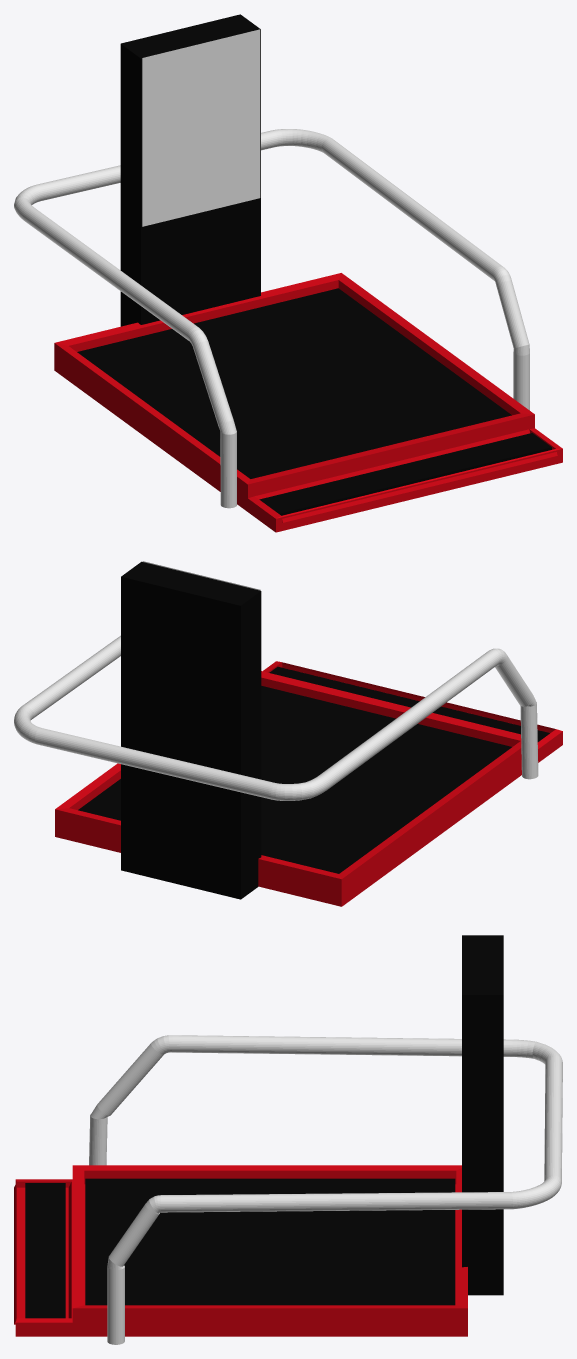
Rendered from teleportmachine.fbx.
3 renders of one model, top to bottom at view 1: azimuth 30°, elevation 25°; view 2: azimuth 150°, elevation 25°; view 3: azimuth 270°, elevation 25°, orthographic. The views are drawn at different scales.
Parts seen in each view (by area): view 1: Cube, Bottom, TV, pillar, Cylinder.001, Cube.001; view 2: pillar, Cube, Bottom, Cylinder.001, Cube.001; view 3: Cube, Bottom, Cylinder.001, pillar, Cube.001.
Part boxes in pixels (x1=…): Cube: x1=77, y1=288, x2=511, y2=478; Bottom: x1=54, y1=273, x2=562, y2=532; TV: x1=142, y1=29, x2=260, y2=226; pillar: x1=120, y1=14, x2=260, y2=326; Cylinder.001: x1=14, y1=129, x2=529, y2=508; Cube.001: x1=259, y1=433, x2=551, y2=515; pillar: x1=121, y1=561, x2=261, y2=899; Cube: x1=78, y1=686, x2=511, y2=873; Bottom: x1=55, y1=661, x2=562, y2=906; Cylinder.001: x1=14, y1=635, x2=538, y2=800; Cube.001: x1=269, y1=666, x2=549, y2=741; Cube: x1=85, y1=1178, x2=455, y2=1305; Bottom: x1=14, y1=1165, x2=467, y2=1336; Cylinder.001: x1=89, y1=1035, x2=562, y2=1344; pillar: x1=462, y1=935, x2=503, y2=1295; Cube.001: x1=25, y1=1183, x2=65, y2=1318.
Size of the model in its own units: 851 by 759 by 1253.
